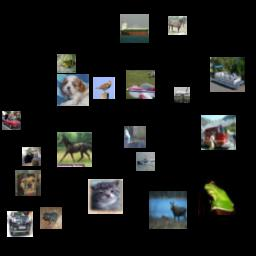airplane: (126, 70, 155, 99), (174, 87, 190, 103)
automobile: (7, 211, 33, 237), (2, 111, 21, 130)
bird: (124, 126, 146, 148), (93, 77, 115, 99)
cat: (88, 179, 123, 214), (22, 147, 41, 166)
deer: (149, 191, 187, 229)
dog: (57, 74, 89, 106), (15, 170, 41, 196)
frog: (198, 177, 236, 215), (40, 207, 62, 229), (57, 54, 76, 73)
ship: (210, 57, 245, 92), (120, 14, 149, 43), (136, 152, 155, 171)
truck: (201, 115, 236, 150)
